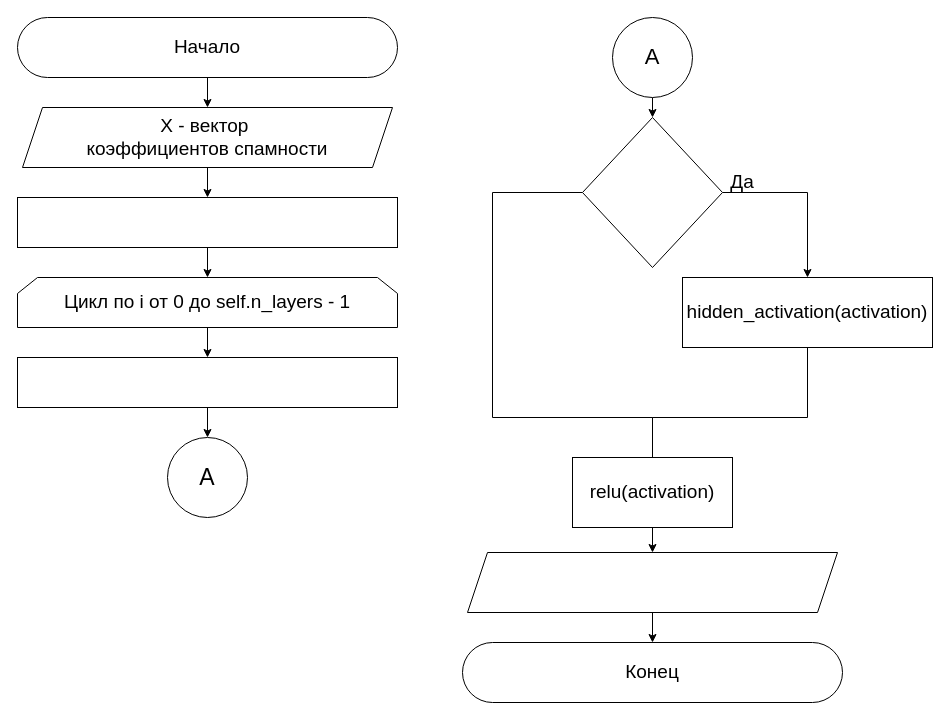
Image size: 950x720. Some labels were removed from this diagram. The shapes that lost their labels are listed below. From the top down, each one's box as (x1, y1, x2, y2) in pixels, then its label:
(582, 116, 722, 268): i != self.n_layers_ - 2
(16, 196, 398, 248): activation = X hidden_activation = relu
(16, 356, 398, 408): activation += self.intercepts_[i]
(466, 552, 838, 612): вернуть activation
